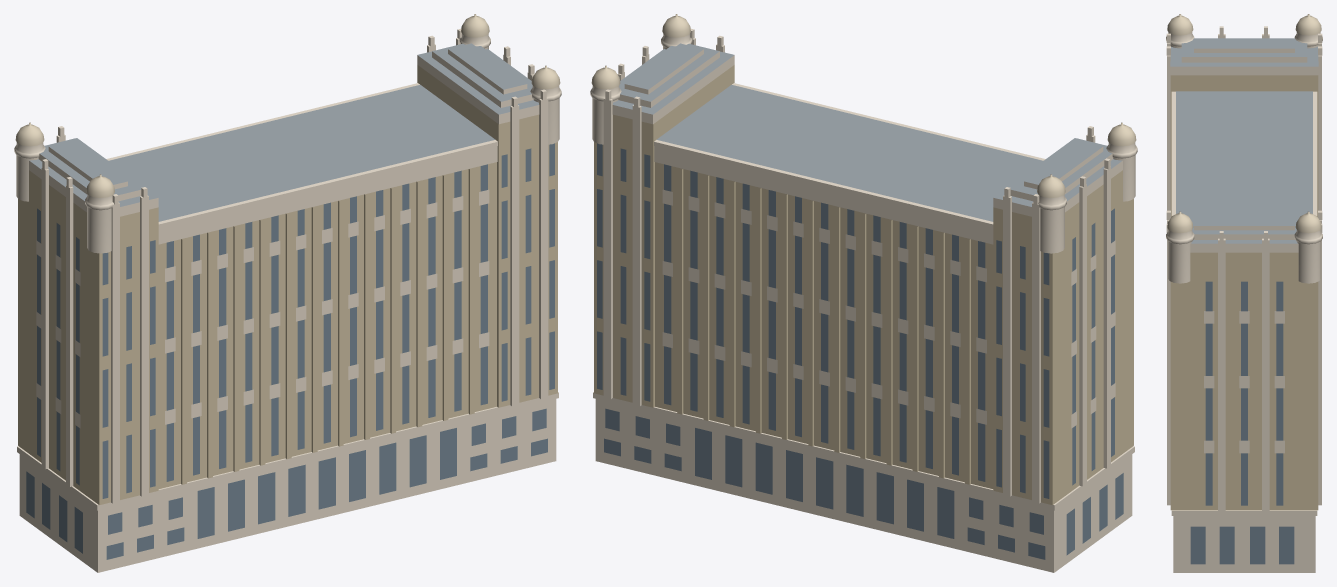
Rendered from dal-texas-pacific-terminal.glb.
The picture shows the model from 3 angles, left to right: view 1: azimuth 30°, elevation 25°; view 2: azimuth 150°, elevation 25°; view 3: azimuth 270°, elevation 25°; orthographic projection. The views are drawn at different scales.
Visible parts, largest first — view 1: Texas & Pacific Passenger Terminal; view 2: Texas & Pacific Passenger Terminal; view 3: Texas & Pacific Passenger Terminal.
Boxes of the visible parts, x1=… form: Texas & Pacific Passenger Terminal: x1=14, y1=14, x2=561, y2=572; Texas & Pacific Passenger Terminal: x1=590, y1=14, x2=1137, y2=572; Texas & Pacific Passenger Terminal: x1=1166, y1=14, x2=1322, y2=572.
Size of the model in its own units: 71.8 by 57.2 by 22.7.
